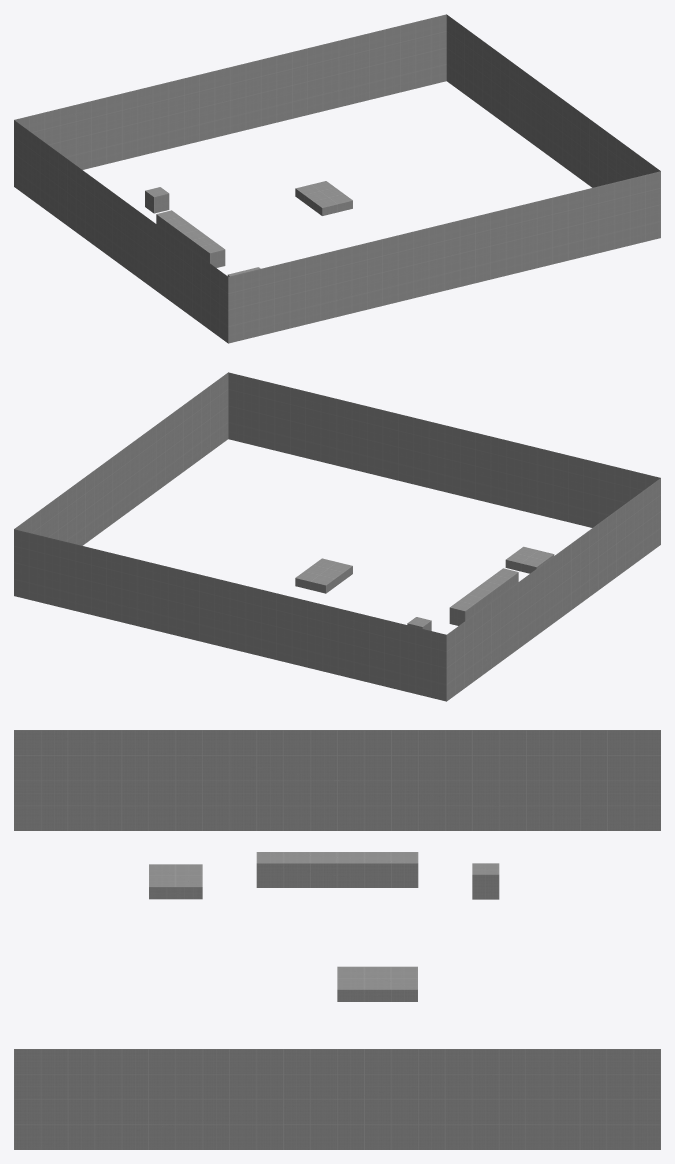
Rendered from Grid_Walls.fbx.
3 views of the same model, one above another, from view 1: azimuth 30°, elevation 25°; view 2: azimuth 150°, elevation 25°; view 3: azimuth 270°, elevation 25° (orthographic). The views are drawn at different scales.
Visible parts, largest first — view 1: pPlane14, pPlane12, pPlane11, pPlane13, pPlane20, pPlane16, pPlane22; view 2: pPlane12, pPlane14, pPlane11, pPlane13, pPlane20, pPlane16, pPlane22, pPlane26; view 3: pPlane11, pPlane13, pPlane23, pPlane20, pPlane16, pPlane26, pPlane15, pPlane33, pPlane27.
Part boxes in pixels (bbox=[...]): pPlane14: bbox=[228, 171, 660, 343]; pPlane12: bbox=[14, 14, 446, 169]; pPlane11: bbox=[14, 120, 228, 343]; pPlane13: bbox=[446, 14, 660, 187]; pPlane20: bbox=[156, 210, 224, 252]; pPlane16: bbox=[296, 181, 352, 207]; pPlane22: bbox=[156, 214, 209, 262]; pPlane12: bbox=[14, 529, 446, 701]; pPlane14: bbox=[228, 372, 660, 527]; pPlane11: bbox=[446, 478, 660, 701]; pPlane13: bbox=[14, 372, 228, 545]; pPlane20: bbox=[450, 568, 518, 610]; pPlane16: bbox=[295, 558, 352, 585]; pPlane22: bbox=[465, 572, 518, 620]; pPlane26: bbox=[506, 546, 553, 566]; pPlane11: bbox=[14, 730, 660, 830]; pPlane13: bbox=[14, 1049, 660, 1149]; pPlane23: bbox=[256, 863, 418, 887]; pPlane20: bbox=[256, 852, 418, 863]; pPlane16: bbox=[337, 966, 417, 989]; pPlane26: bbox=[149, 864, 202, 886]; pPlane15: bbox=[337, 989, 417, 1001]; pPlane33: bbox=[472, 874, 499, 899]; pPlane27: bbox=[149, 887, 202, 899].
Size of what is drawn, in the model's own units: 24.05 by 3.55 by 20.63.
